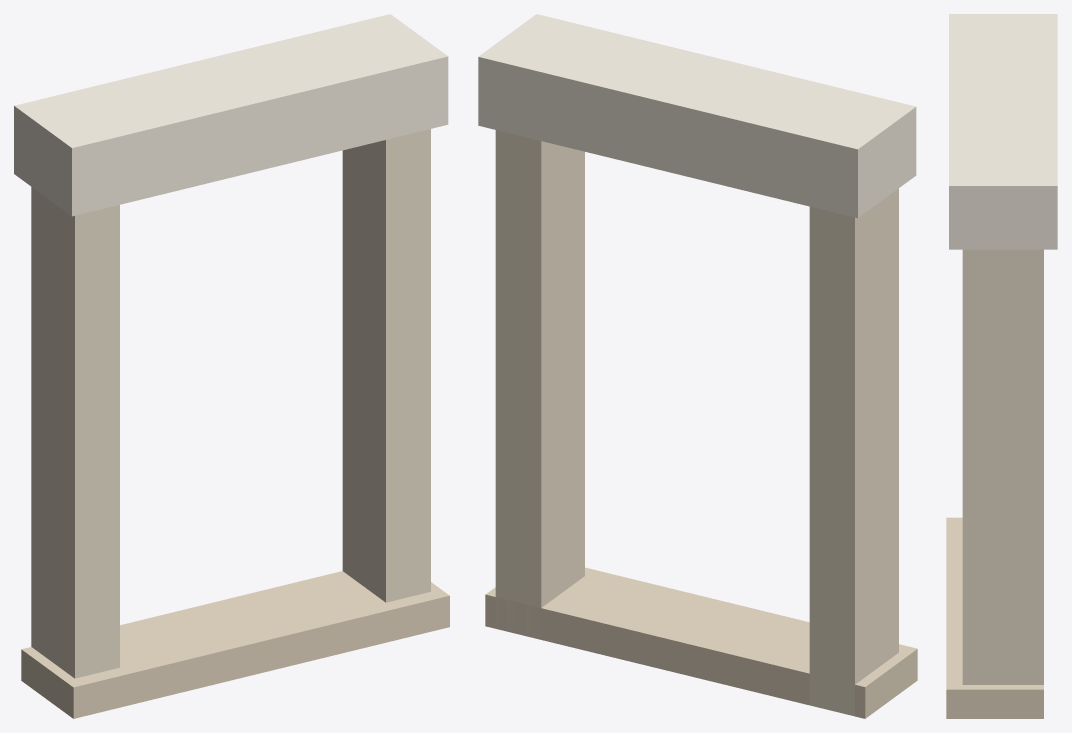
File: Entrance_Arch_Frame.glb
The picture shows the model from 3 angles, left to right: view 1: azimuth 30°, elevation 25°; view 2: azimuth 150°, elevation 25°; view 3: azimuth 270°, elevation 25°; orthographic projection. The views are drawn at different scales.
Visible parts, largest first — view 1: lintel_2, frameLeft_0, frameRight_1, threshold_3; view 2: lintel_2, frameLeft_0, frameRight_1, threshold_3; view 3: frameRight_1, lintel_2, threshold_3.
Boxes of the visible parts, x1,y1,x2,y2 form: lintel_2: (14, 14, 448, 216); frameLeft_0: (31, 187, 119, 678); frameRight_1: (342, 129, 430, 602); threshold_3: (21, 571, 449, 718); lintel_2: (478, 14, 916, 218); frameLeft_0: (809, 188, 898, 716); frameRight_1: (495, 130, 584, 638); threshold_3: (485, 567, 917, 718); frameRight_1: (962, 249, 1043, 684); lintel_2: (949, 14, 1057, 249); threshold_3: (946, 517, 1043, 718).
Size of the model in its own units: 1.5 by 2.17 by 0.41.
